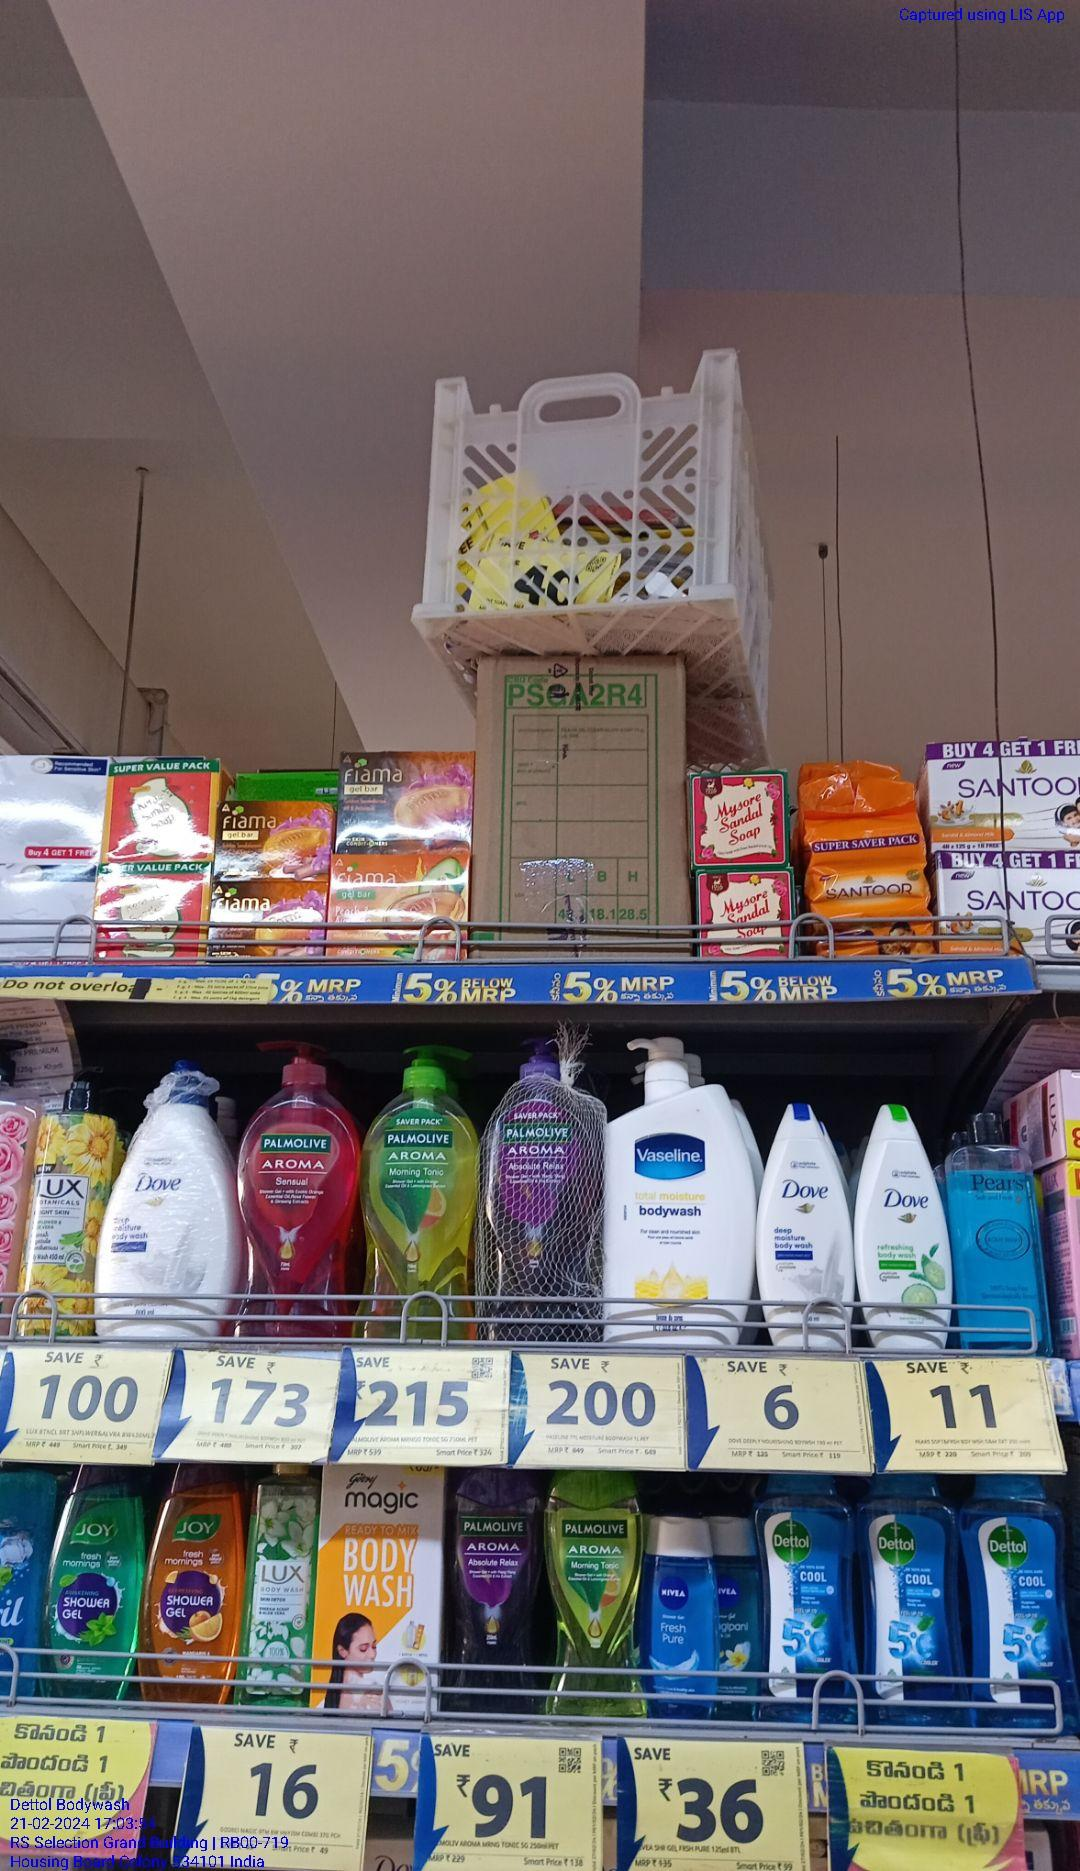Dettol_Bodywash_Cool: (962, 1480, 1076, 1723), (753, 1478, 859, 1722), (859, 1482, 962, 1723)
Dove_Deep_Moisture_Body_Wash_250ML: (757, 1106, 851, 1351)
Dove_Refreshing_Body_Wash_250ML: (859, 1105, 955, 1345)
Joy_Shower_Gel_Mandarin_and_Lemongrass_250ML: (147, 1455, 246, 1704)
Joy_Shower_Gel_Mint_and_Eucalyptus_250ML: (51, 1455, 140, 1695)
Lux_Body_Wash_Skin_Detox_Freesia_Scent_and_Alove_Vera_245ML: (242, 1457, 311, 1704)
Palmolive_Aroma_Morning_Tonic_Shower_Gel_250ML: (544, 1474, 643, 1722)
Palmolive_Aroma_Relax_250ML: (446, 1469, 544, 1716)
Pears_Pure_Glycerin_and_Mint_Extracts_Body_Wash_250ML: (953, 1099, 1050, 1351)
